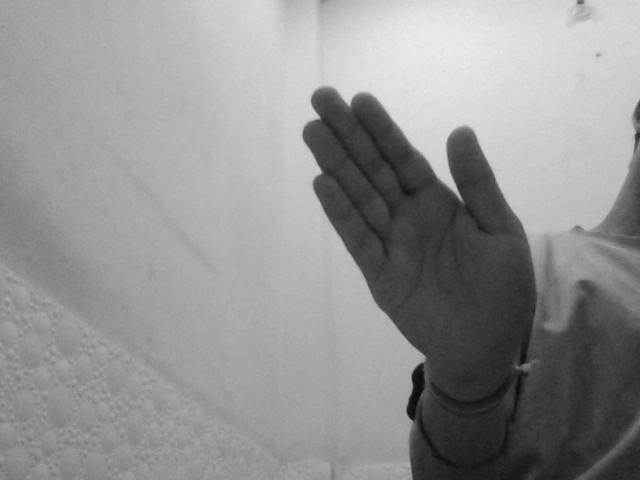Hello: (298, 83, 539, 389)
